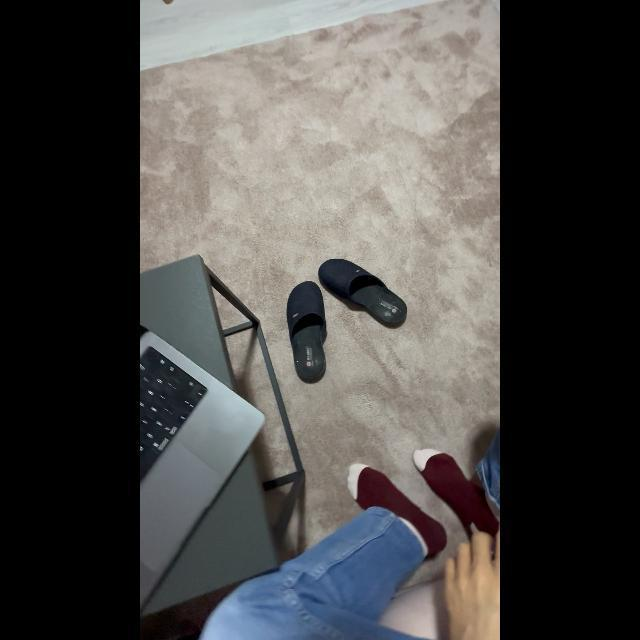slipper: (314, 254, 418, 332), (283, 278, 333, 388)
